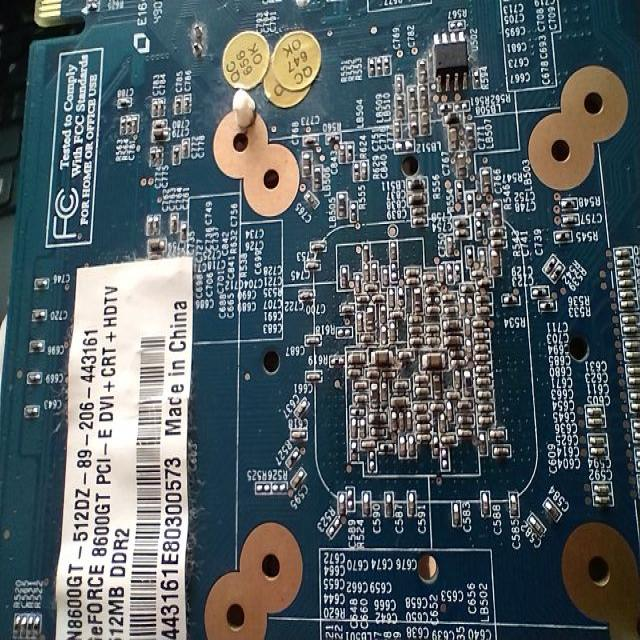capacitor: (17, 399, 57, 427), (525, 511, 548, 547), (503, 487, 525, 524), (421, 347, 445, 379), (403, 486, 427, 518), (338, 348, 367, 374), (475, 486, 497, 520), (340, 482, 357, 516), (543, 487, 559, 523), (379, 492, 397, 524), (32, 271, 54, 297), (358, 488, 374, 523), (359, 154, 373, 190), (379, 349, 399, 374), (490, 442, 509, 468), (171, 207, 183, 246), (26, 343, 48, 364), (22, 372, 42, 395), (594, 490, 609, 520), (453, 500, 466, 534), (299, 288, 321, 308), (443, 426, 461, 450), (34, 308, 50, 332), (305, 338, 323, 355), (583, 406, 604, 420), (179, 92, 195, 110), (307, 366, 317, 388)
resistor: (11, 612, 23, 640), (34, 612, 42, 640)
